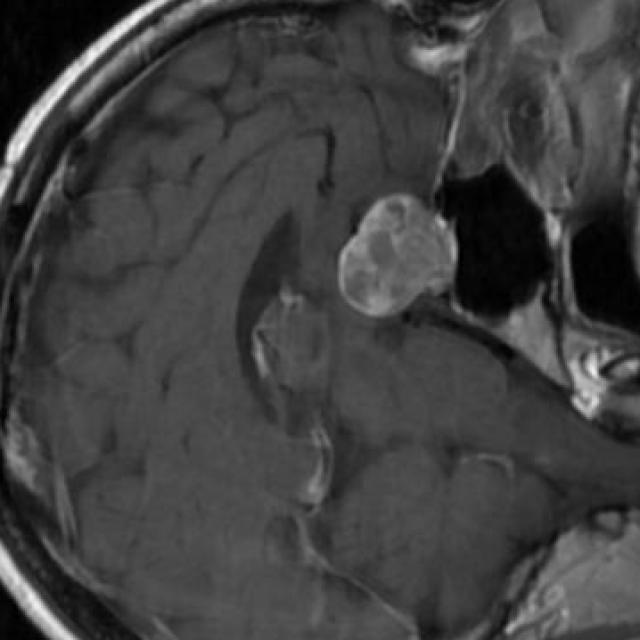pituitary: (337, 194, 458, 319)
